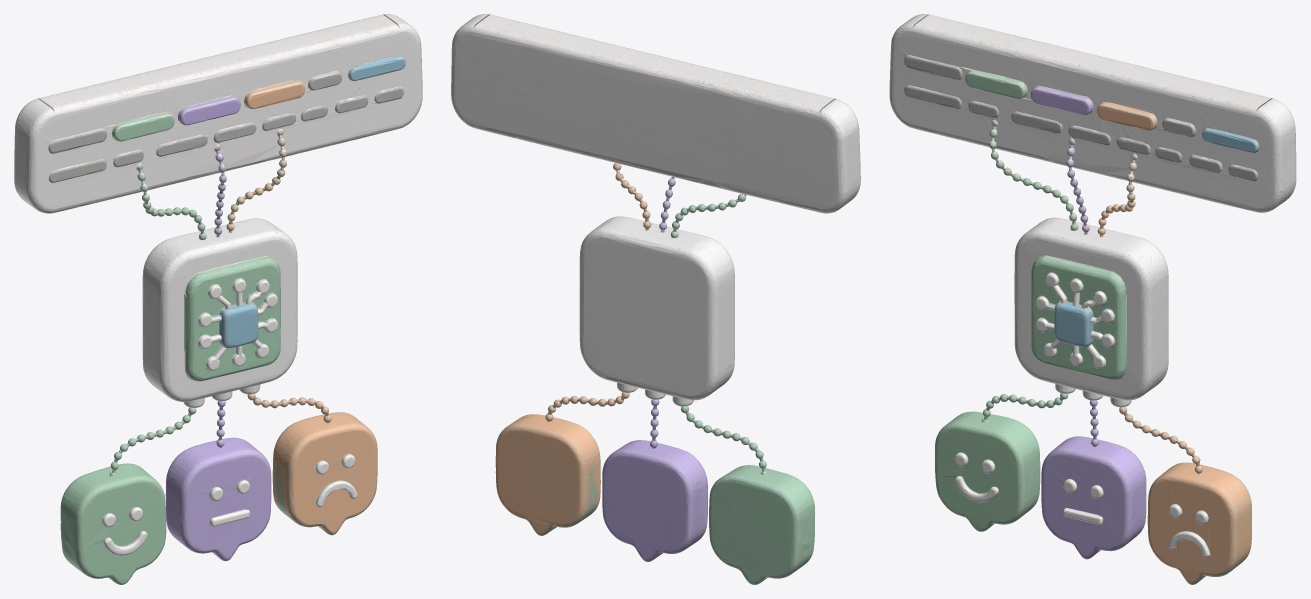
File: sentiment3D-draco.glb
3 views of the same model, side by side, from view 1: azimuth 30°, elevation 25°; view 2: azimuth 150°, elevation 25°; view 3: azimuth 330°, elevation 25° (orthographic).
Visible parts, largest first — view 1: mesh_node; view 2: mesh_node; view 3: mesh_node.
Boxes of the visible parts, bbox=[...] form: mesh_node: bbox=[14, 14, 422, 584]; mesh_node: bbox=[451, 14, 860, 584]; mesh_node: bbox=[889, 14, 1296, 584].
Size of the model in its own units: 1.59 by 1.9 by 0.236.
1 material, 1 textured.
